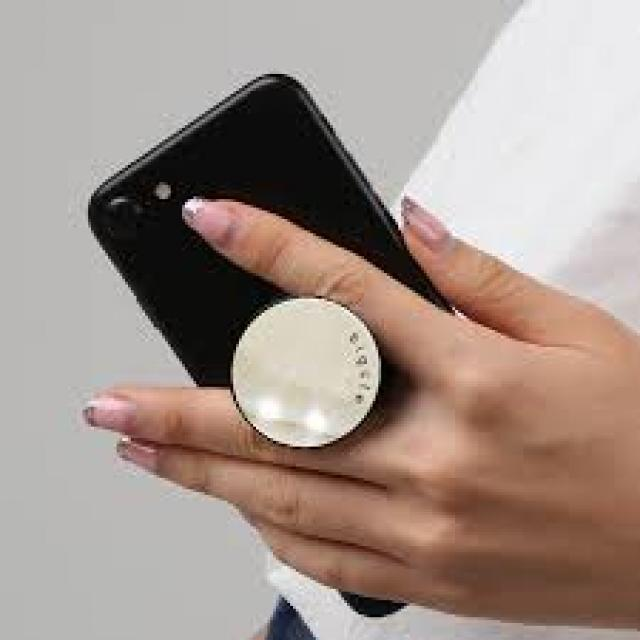Phone: (84, 72, 469, 623)
